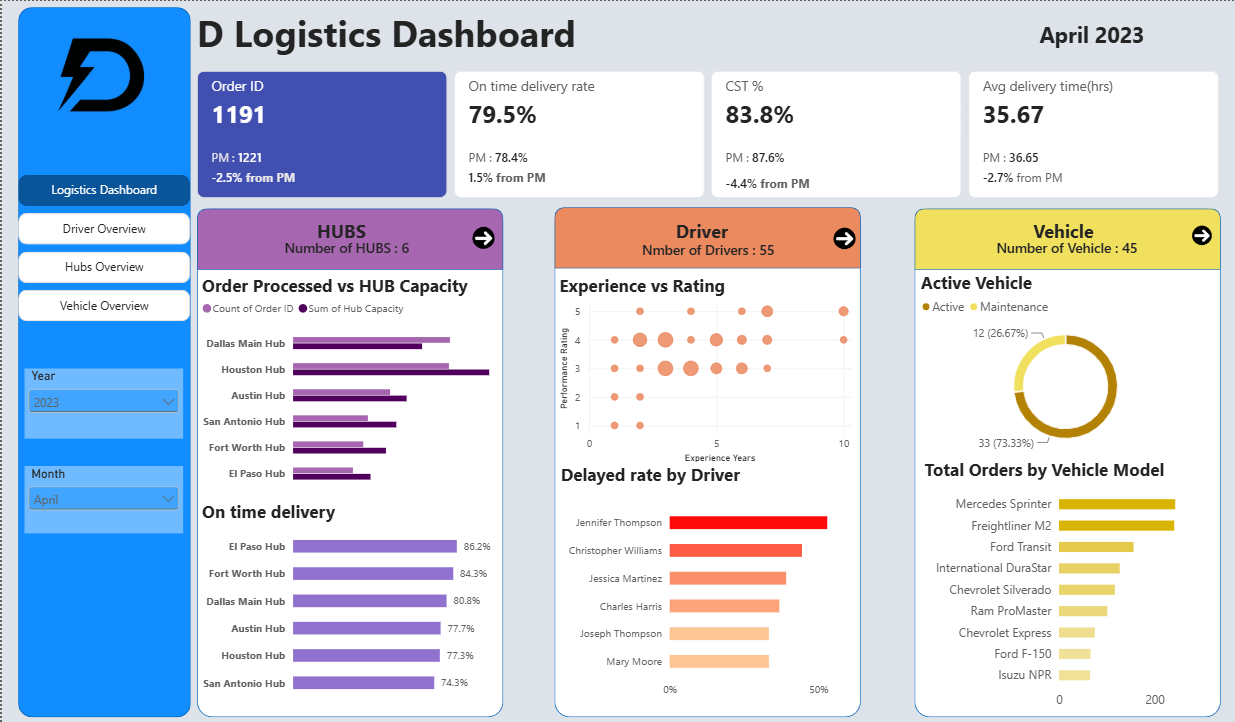

The page's visual inventory and layout, read from the dashboard file:
{"tool":"powerbi","page":{"name":"Logistics Dashboard","canvas":[1450,850],"ordinal":0},"visuals":[{"type":"shape","box":[18.7,7.8,202.7,834.1],"z":0},{"type":"cardVisual","fields":{"Data":["CountNonNull(Orders (1).Order ID)","Orders (1).On time delivery rate","Orders (1).CST %","Orders (1).Avg delivery time(hrs)"]},"box":[228.5,82.8,1202.2,149.8],"z":1000},{"type":"slicer","fields":{"Values":["Date Table.Year"]},"box":[26.4,431.8,186.5,82.2],"z":2000},{"type":"slicer","fields":{"Values":["Date Table.Month"]},"box":[26.4,546.3,186.5,79.3],"z":3000},{"type":"shape","box":[229.1,243.8,359.8,597.7],"z":4000},{"type":"shape","box":[229.1,243.8,359.8,72],"z":5000},{"type":"textbox","box":[370.1,255.5,218.8,36.7],"z":6000},{"type":"cardVisual","fields":{"Data":["Hubs (1).Number of Hubs"]},"box":[295.2,261.4,220.3,55.8],"z":7000},{"type":"clusteredBarChart","title":"Order Processed vs HUB Capacity","fields":{"Category":["Hubs (1).HubName"],"Y":["CountNonNull(Orders (1).Order ID)","Sum(Hubs (1).Hub Capacity)"]},"box":[235,320.1,349.5,255.5],"z":8000},{"type":"clusteredBarChart","title":"On time delivery ","fields":{"Category":["Hubs (1).HubName"],"Y":["Orders (1).On time delivery rate"]},"box":[235,586,339.2,236.4],"z":9000},{"type":"shape","box":[649.1,243.8,359.8,597.7],"z":10000},{"type":"shape","box":[1072.1,243.8,359.8,597.7],"z":11000},{"type":"shape","box":[649.1,241.8,359.8,72],"z":12000},{"type":"shape","box":[1072.1,243.8,359.8,72],"z":13000},{"type":"cardVisual","fields":{"Data":["Drivers.no of drivers"]},"box":[719.6,264.3,220.3,55.8],"z":14000},{"type":"textbox","box":[668.2,255.5,308.4,33.8],"z":15000},{"type":"scatterChart","title":"Experience vs Rating","fields":{"X":["Drivers.Experience Years"],"Y":["Drivers.Performance Rating"],"Size":["CountNonNull(Drivers.DriverID)"]},"box":[654.4,320.2,349.8,222.3],"z":16000},{"type":"clusteredBarChart","title":"Delayed rate by Driver","fields":{"Y":["Drivers.Delayed rate"],"Category":["Drivers.DriverName"]},"box":[656,542.5,349.8,279.8],"z":17000},{"type":"cardVisual","fields":{"Data":["Orders (1).no of vehicle"]},"box":[1141,261.2,220.3,55.8],"z":18000},{"type":"textbox","box":[1108.3,254.9,276.7,37.3],"z":19000},{"type":"donutChart","title":"Active Vehicle","fields":{"Category":["Vehicles.Vehicle Status"],"Y":["CountNonNull(Vehicles.Vehicle ID)"]},"box":[1078.8,317.1,340.4,214.5],"z":20000},{"type":"clusteredBarChart","title":"Total Orders by Vehicle Model","fields":{"Y":["CountNonNull(Orders (1).Order ID)"],"Category":["Vehicles.Vehicle Model"]},"box":[1083.8,536.6,338.6,300],"z":21000},{"type":"cardVisual","fields":{"Data":["Date Table.year and month"]},"box":[1142.5,7.8,276.7,63.7],"z":22000},{"type":"textbox","box":[229.1,7.3,913.4,63.1],"z":23000},{"type":"pageNavigator","box":[19.1,204.1,202.7,174.8],"z":24000},{"type":"image","box":[547.8,264.3,36.7,27.9],"z":25000},{"type":"image","box":[974.5,260.9,29.4,35.2],"z":26000},{"type":"image","box":[1396.2,261.5,26.2,27.7],"z":27000},{"type":"image","box":[19.1,39.7,196.8,102.8],"z":28000}]}

Visuals, with their boxes in screenshot pixels (x1, y1, x2, y2), scaled from the page's 1450x850 canvas onto the 1235x722 screenshot:
shape: {"left": 16, "top": 7, "right": 189, "bottom": 715}
cardVisual - CountNonNull(Orders (1).Order ID) x Orders (1).On time delivery rate: {"left": 195, "top": 70, "right": 1219, "bottom": 198}
slicer - Date Table.Year: {"left": 22, "top": 367, "right": 181, "bottom": 437}
slicer - Date Table.Month: {"left": 22, "top": 464, "right": 181, "bottom": 531}
shape: {"left": 195, "top": 207, "right": 502, "bottom": 715}
shape: {"left": 195, "top": 207, "right": 502, "bottom": 268}
textbox: {"left": 315, "top": 217, "right": 502, "bottom": 248}
cardVisual - Hubs (1).Number of Hubs: {"left": 251, "top": 222, "right": 439, "bottom": 269}
"Order Processed vs HUB Capacity" clusteredBarChart: {"left": 200, "top": 272, "right": 498, "bottom": 489}
"On time delivery " clusteredBarChart: {"left": 200, "top": 498, "right": 489, "bottom": 699}
shape: {"left": 553, "top": 207, "right": 859, "bottom": 715}
shape: {"left": 913, "top": 207, "right": 1220, "bottom": 715}
shape: {"left": 553, "top": 205, "right": 859, "bottom": 267}
shape: {"left": 913, "top": 207, "right": 1220, "bottom": 268}
cardVisual - Drivers.no of drivers: {"left": 613, "top": 224, "right": 801, "bottom": 272}
textbox: {"left": 569, "top": 217, "right": 832, "bottom": 246}
"Experience vs Rating" scatterChart: {"left": 557, "top": 272, "right": 855, "bottom": 461}
"Delayed rate by Driver" clusteredBarChart: {"left": 559, "top": 461, "right": 857, "bottom": 698}
cardVisual - Orders (1).no of vehicle: {"left": 972, "top": 222, "right": 1159, "bottom": 269}
textbox: {"left": 944, "top": 217, "right": 1180, "bottom": 248}
"Active Vehicle" donutChart: {"left": 919, "top": 269, "right": 1209, "bottom": 452}
"Total Orders by Vehicle Model" clusteredBarChart: {"left": 923, "top": 456, "right": 1211, "bottom": 711}
cardVisual - Date Table.year and month: {"left": 973, "top": 7, "right": 1209, "bottom": 61}
textbox: {"left": 195, "top": 6, "right": 973, "bottom": 60}
pageNavigator: {"left": 16, "top": 173, "right": 189, "bottom": 322}
image: {"left": 467, "top": 224, "right": 498, "bottom": 248}
image: {"left": 830, "top": 222, "right": 855, "bottom": 252}
image: {"left": 1189, "top": 222, "right": 1211, "bottom": 246}
image: {"left": 16, "top": 34, "right": 184, "bottom": 121}
